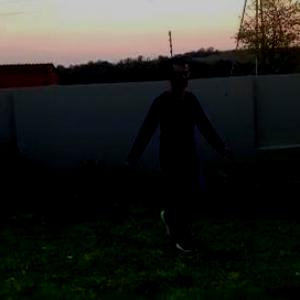land: (105, 51, 234, 267)
